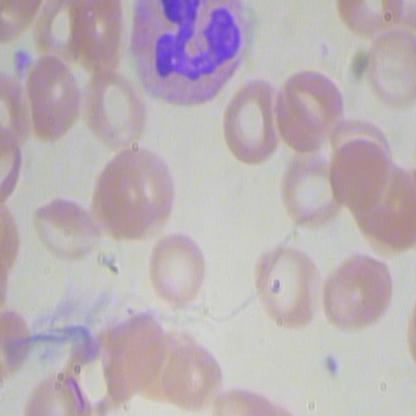Platelets: (10, 46, 32, 80), (316, 352, 342, 380)
RBC: (88, 145, 176, 244), (252, 238, 325, 335), (319, 248, 394, 335), (20, 53, 90, 144), (32, 183, 104, 265), (223, 80, 292, 163), (276, 148, 345, 230), (80, 68, 149, 150), (278, 68, 346, 150), (147, 230, 214, 311), (160, 335, 225, 412), (361, 27, 415, 113)
WBC: (126, 1, 266, 106)
